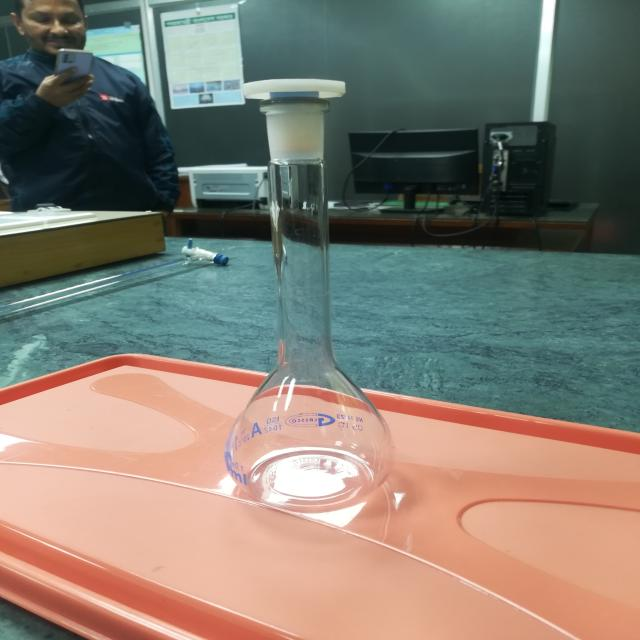Volumetric_Flask: (181, 25, 425, 529)
